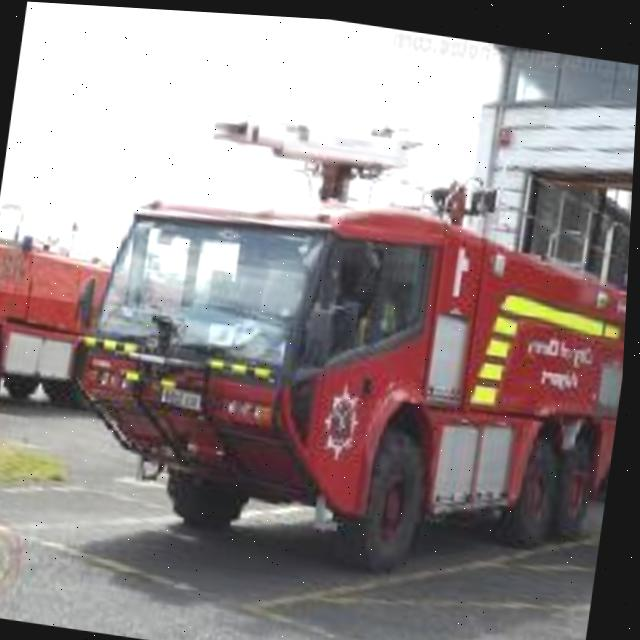emergency: (62, 153, 634, 571)
